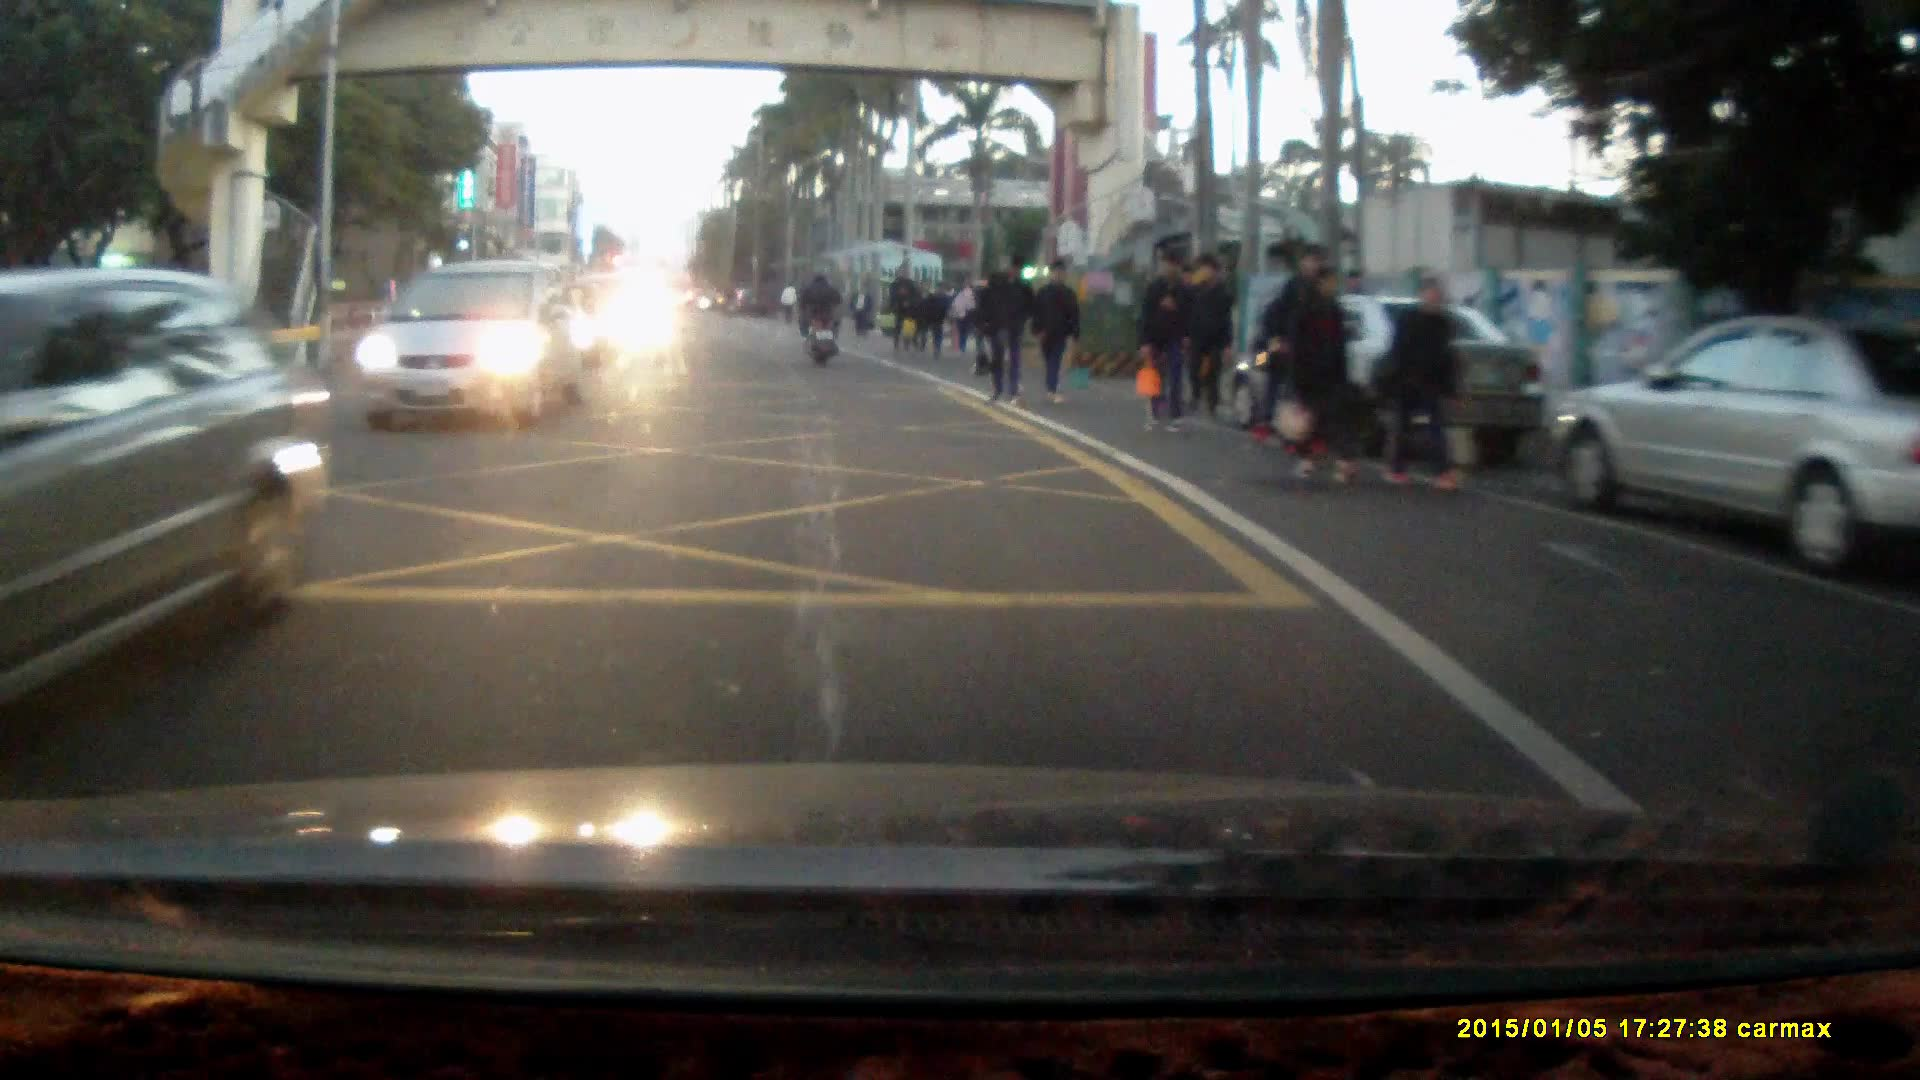pedestrian: (1380, 271, 1464, 495), (1284, 262, 1356, 489), (1136, 250, 1194, 429), (985, 260, 1042, 412), (1190, 254, 1238, 426), (1030, 256, 1083, 403), (884, 264, 916, 357), (948, 278, 978, 363), (907, 272, 931, 353), (849, 280, 873, 342)
rider: (799, 270, 844, 366)
vehicle: (1, 267, 337, 715), (1540, 319, 1920, 586), (1232, 298, 1548, 458), (347, 260, 591, 437)
